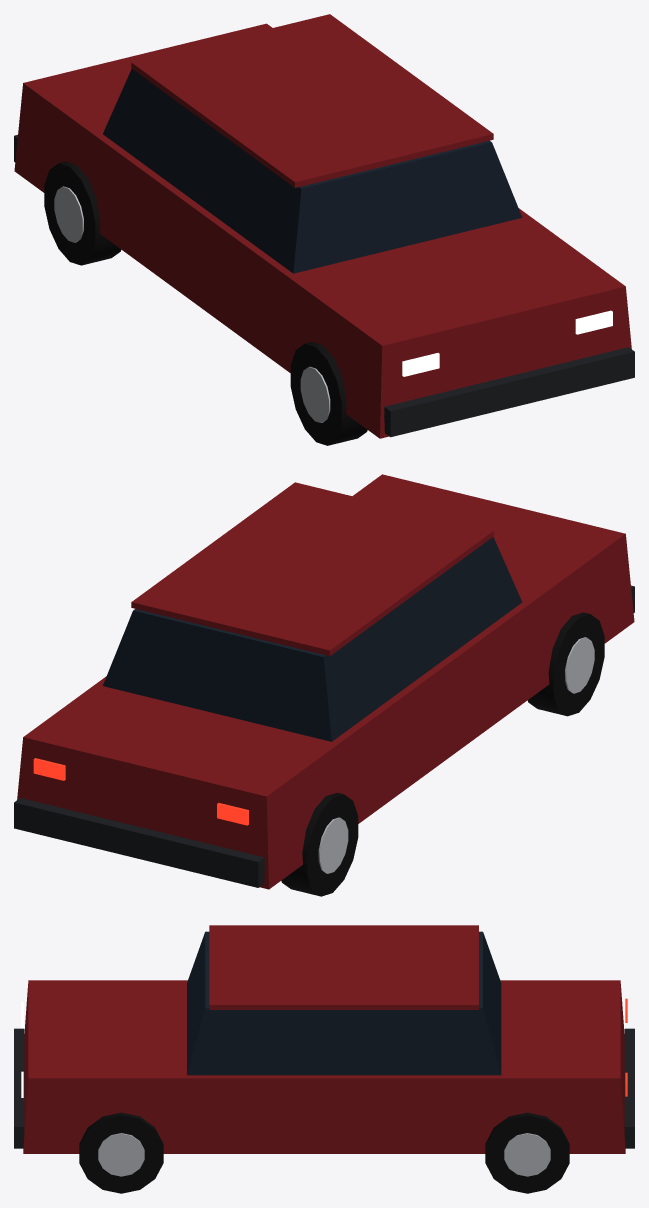
Rendered from sedan-4.glb.
3 views of the same model, one above another, from view 1: azimuth 30°, elevation 25°; view 2: azimuth 150°, elevation 25°; view 3: azimuth 270°, elevation 25° (orthographic). The views are drawn at different scales.
Bounding box in the file's own units: 1.93 × 1.48 × 4.74.
